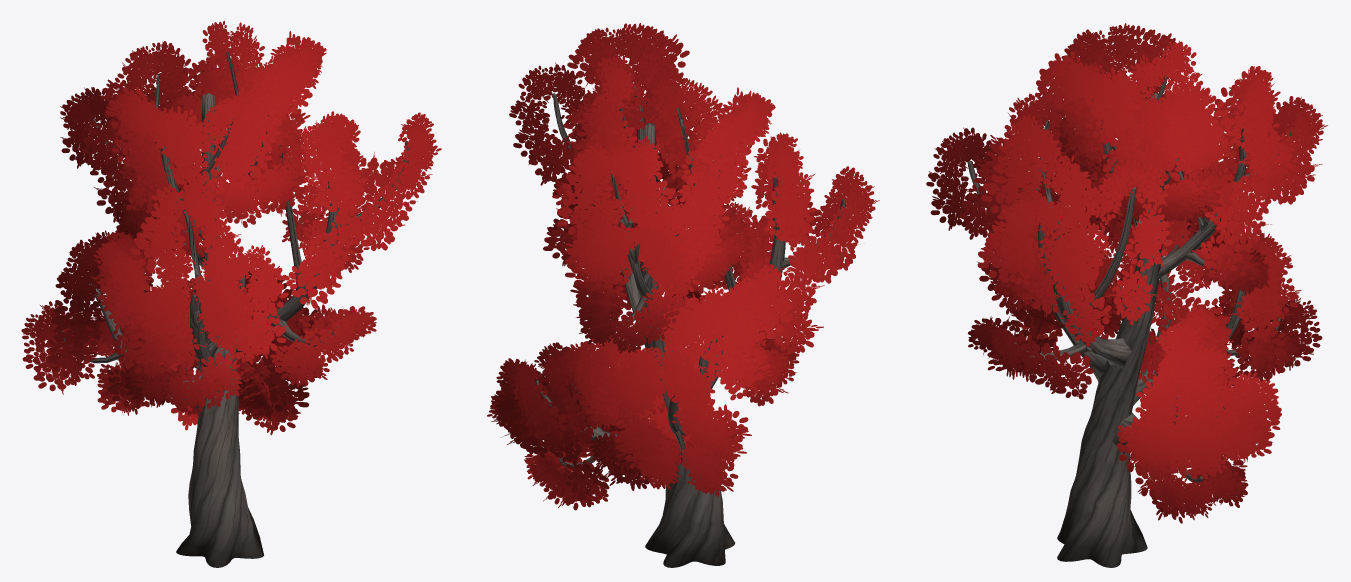
The model's file is sn_twisted_tree_3.glb.
3 renders of one model, left to right at view 1: azimuth 30°, elevation 25°; view 2: azimuth 150°, elevation 25°; view 3: azimuth 270°, elevation 25°, orthographic. The views are drawn at different scales.
Parts seen in each view (by area): view 1: TwistedTree_3; view 2: TwistedTree_3; view 3: TwistedTree_3.
Boxes of the visible parts, x1,y1,x2,y2 form: TwistedTree_3: [21, 21, 441, 567]; TwistedTree_3: [487, 23, 879, 567]; TwistedTree_3: [926, 23, 1327, 567].
Size of the model in its own units: 11.36 by 16.07 by 11.51.
2 materials, 2 textured.
